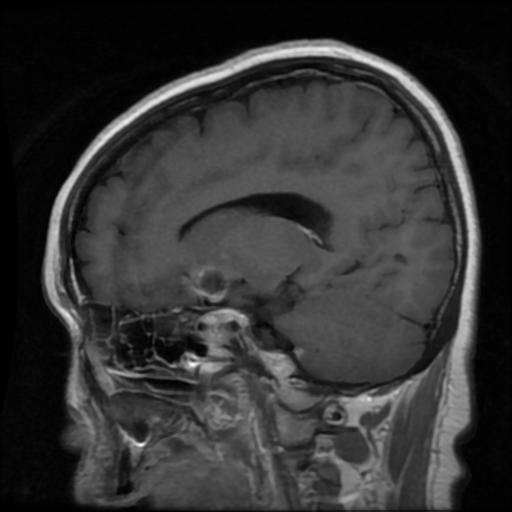Pituirity_tumour: (194, 263, 231, 301)
